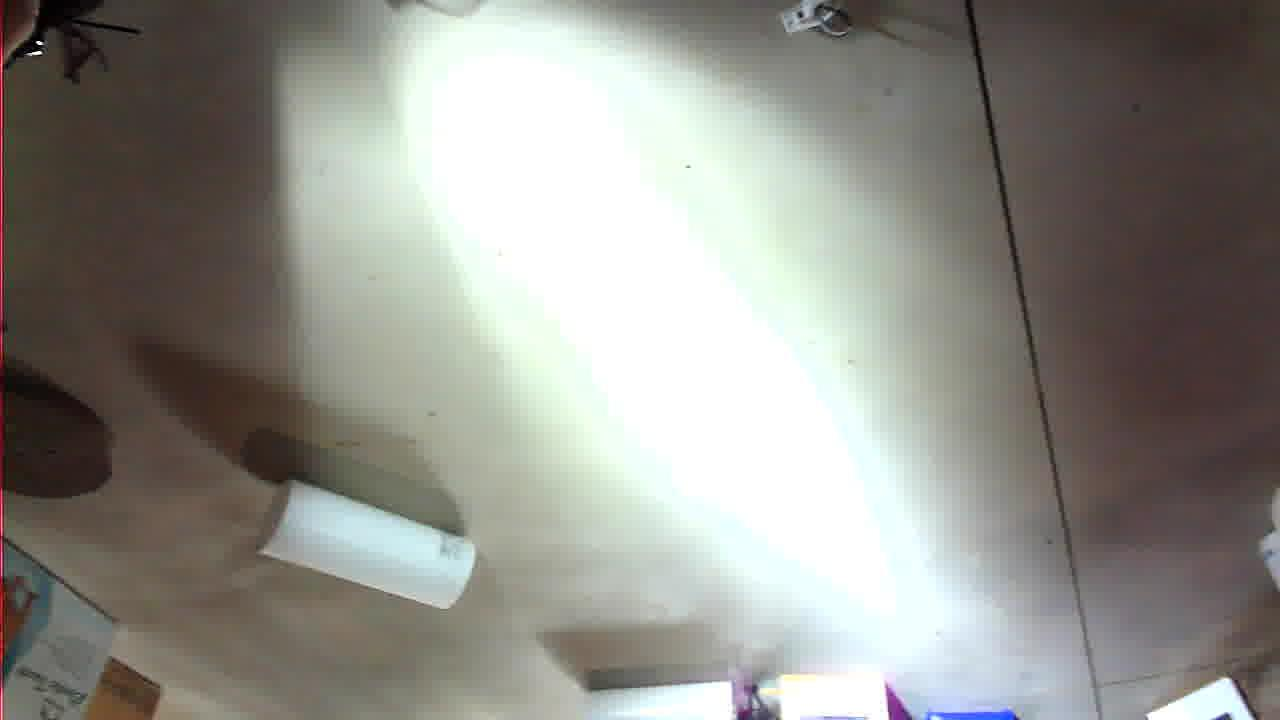coral: (806, 111, 1026, 241), (547, 0, 696, 39)
